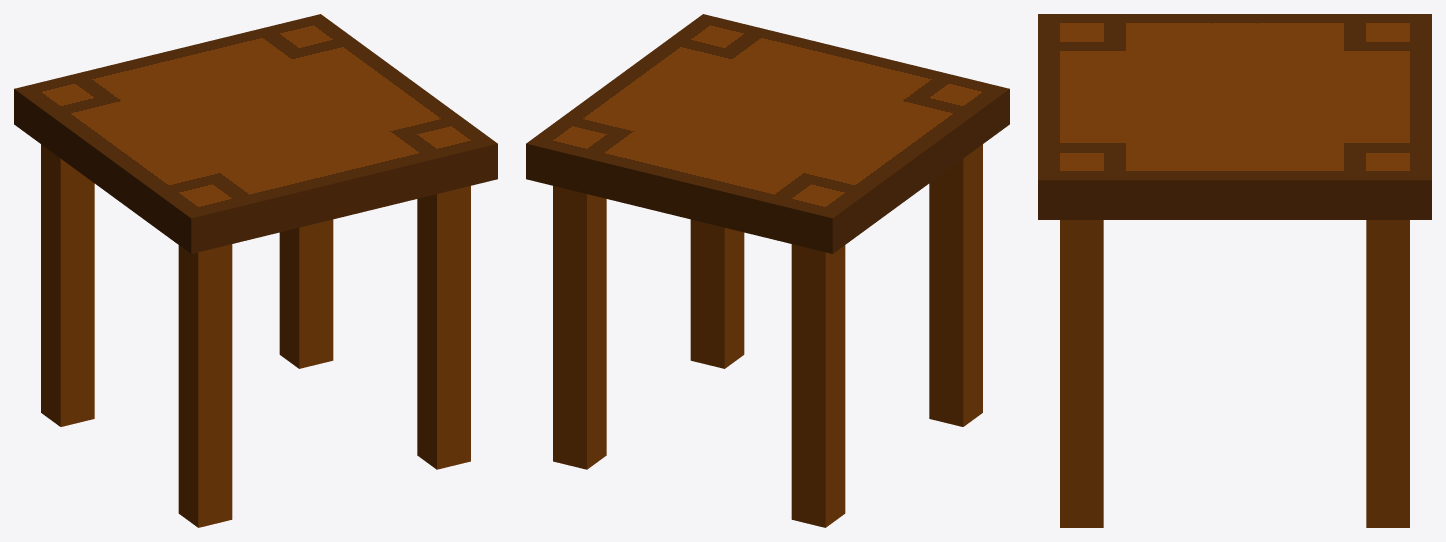
The model's file is Table.obj.
3 renders of one model, left to right at view 1: azimuth 30°, elevation 25°; view 2: azimuth 150°, elevation 25°; view 3: azimuth 270°, elevation 25°, orthographic. The views are drawn at different scales.
Parts seen in each view (by area): view 1: cube, leg; view 2: cube, leg; view 3: cube, leg.
Part boxes in pixels (x1,y1,x2,y2): cube: (14, 14, 497, 253); leg: (41, 144, 470, 527); cube: (526, 14, 1009, 253); leg: (553, 144, 982, 527); cube: (1038, 14, 1431, 219); leg: (1060, 220, 1409, 527).
Bounding box in the file's own units: 1.12 × 1.12 × 1.12.
